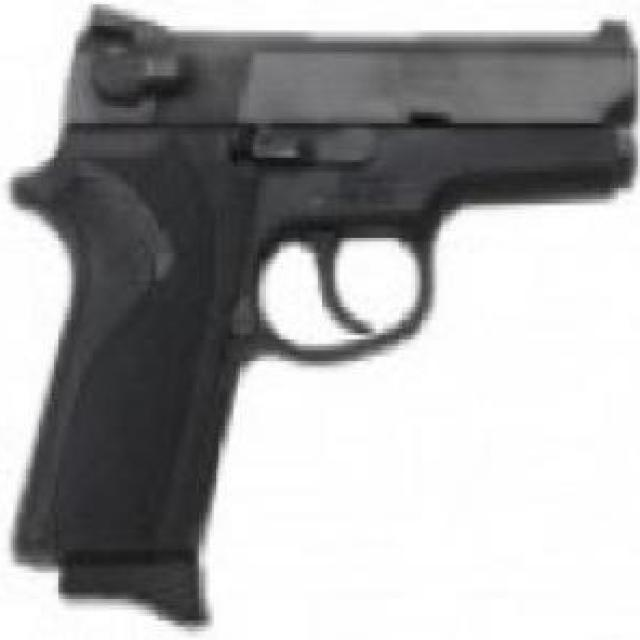pistol: (13, 4, 629, 632)
